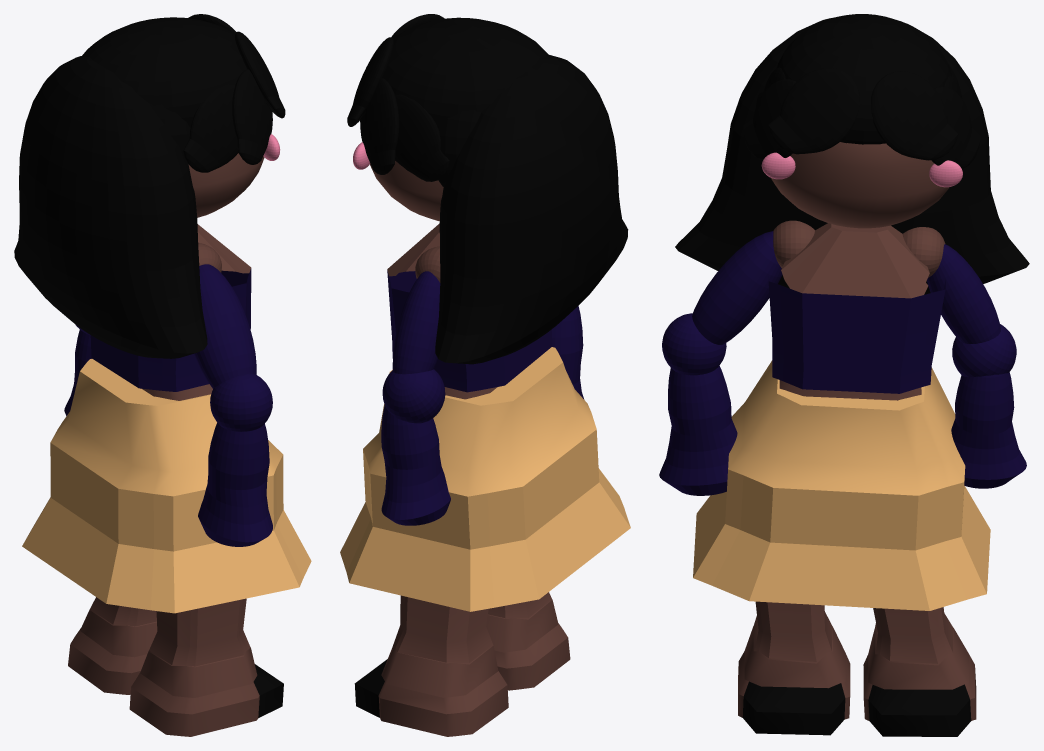
Rendered from small girl l.fbx.
3 renders of one model, left to right at view 1: azimuth 30°, elevation 25°; view 2: azimuth 150°, elevation 25°; view 3: azimuth 270°, elevation 25°, orthographic. The views are drawn at different scales.
Parts seen in each view (by area): view 1: Sphere.229, trousers.018, Cube.056, Sphere.231, Sphere.218, Cube.052, Sphere.216, Cube.057, Sphere.233, Sphere.221, Sphere.230, Sphere.224 (+5 smaller); view 2: trousers.018, Sphere.229, Cube.052, Sphere.231, Sphere.217, Cube.056, Cube.057, Sphere.223, Sphere.233, Sphere.222, Sphere.230, Sphere.224 (+5 smaller); view 3: trousers.018, Sphere.229, Cube.057, Sphere.232, Sphere.224, Sphere.231, Cube.054, Cube.056, Cube.052, Sphere.218, Sphere.217, Sphere.216 (+9 smaller).
Boxes of the visible parts, x1=… form: Sphere.229: x1=14, y1=56, x2=207, y2=358; trousers.018: x1=22, y1=359, x2=311, y2=613; Cube.056: x1=129, y1=598, x2=259, y2=736; Sphere.231: x1=82, y1=17, x2=246, y2=158; Sphere.218: x1=198, y1=422, x2=272, y2=546; Cube.052: x1=68, y1=597, x2=157, y2=694; Sphere.216: x1=194, y1=264, x2=256, y2=388; Cube.057: x1=90, y1=268, x2=251, y2=391; Sphere.233: x1=183, y1=84, x2=238, y2=172; Sphere.221: x1=210, y1=373, x2=272, y2=431; Sphere.230: x1=232, y1=69, x2=272, y2=164; Sphere.224: x1=188, y1=153, x2=264, y2=217; trousers.018: x1=340, y1=347, x2=630, y2=611; Sphere.229: x1=435, y1=54, x2=628, y2=364; Cube.052: x1=378, y1=595, x2=508, y2=736; Sphere.231: x1=383, y1=17, x2=548, y2=186; Sphere.217: x1=381, y1=405, x2=450, y2=525; Cube.056: x1=486, y1=592, x2=570, y2=690; Cube.057: x1=387, y1=270, x2=552, y2=392; Sphere.223: x1=392, y1=271, x2=440, y2=374; Sphere.233: x1=395, y1=94, x2=449, y2=181; Sphere.222: x1=382, y1=369, x2=445, y2=423; Sphere.230: x1=360, y1=78, x2=399, y2=174; Sphere.224: x1=370, y1=161, x2=443, y2=221; trousers.018: x1=693, y1=360, x2=990, y2=610; Sphere.229: x1=675, y1=18, x2=1029, y2=294; Cube.057: x1=768, y1=276, x2=945, y2=393; Sphere.232: x1=768, y1=67, x2=958, y2=160; Sphere.224: x1=771, y1=142, x2=949, y2=228; Sphere.231: x1=776, y1=14, x2=961, y2=144; Cube.054: x1=781, y1=223, x2=929, y2=298; Cube.056: x1=738, y1=601, x2=850, y2=719; Cube.052: x1=863, y1=607, x2=976, y2=720; Sphere.218: x1=659, y1=365, x2=737, y2=495; Sphere.217: x1=951, y1=372, x2=1026, y2=488; Sphere.216: x1=692, y1=231, x2=782, y2=344.
Size of the model in its own units: 218 by 634 by 315.
